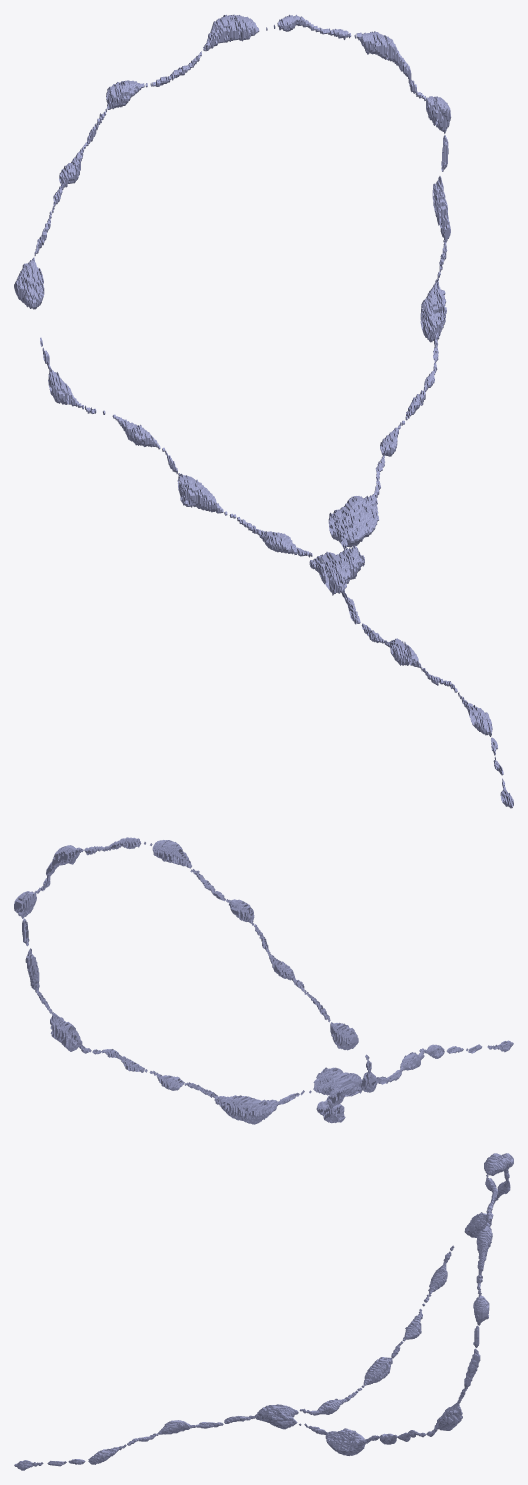
Rendered from SVV_PVT.gltf.
The picture shows the model from 3 angles, top to bottom: view 1: azimuth 30°, elevation 25°; view 2: azimuth 150°, elevation 25°; view 3: azimuth 270°, elevation 25°; orthographic projection. The views are drawn at different scales.
Visible parts, largest first — view 1: PVT; view 2: PVT; view 3: PVT.
Boxes of the visible parts, x1,y1,x2,y2 form: PVT: [14, 14, 513, 808]; PVT: [14, 837, 513, 1124]; PVT: [14, 1153, 513, 1470].
Size of the model in its own units: 143362 by 160901 by 214990.
